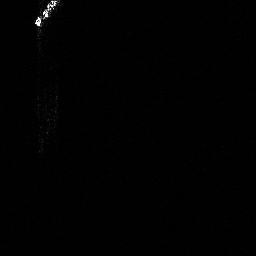ship: (28, 1, 63, 31)
